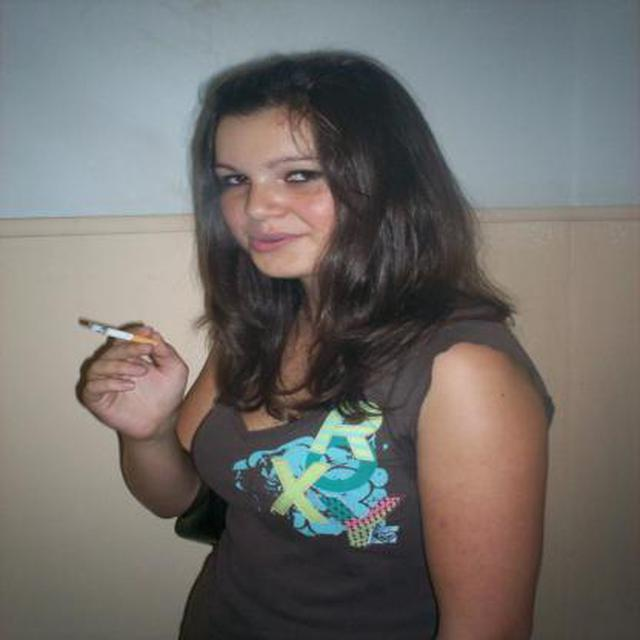smoking: (82, 316, 182, 361)
